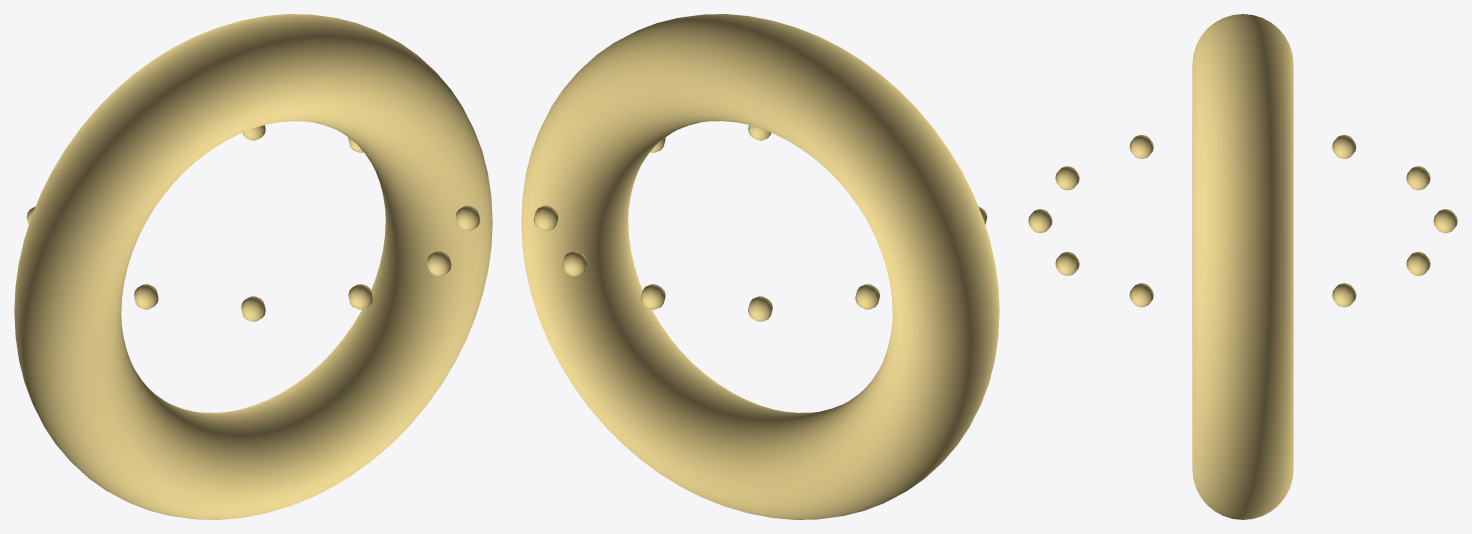
Rendered from test-filigree.glb.
3 renders of one model, left to right at view 1: azimuth 30°, elevation 25°; view 2: azimuth 150°, elevation 25°; view 3: azimuth 270°, elevation 25°, orthographic. The views are drawn at different scales.
Parts seen in each view (by area): view 1: Model; view 2: Model; view 3: Model.
Boxes of the visible parts, bbox=[...] form: Model: bbox=[14, 14, 492, 519]; Model: bbox=[521, 14, 999, 519]; Model: bbox=[1028, 14, 1457, 519].
Bounding box in the file's own units: 25 × 25 × 21.2.
